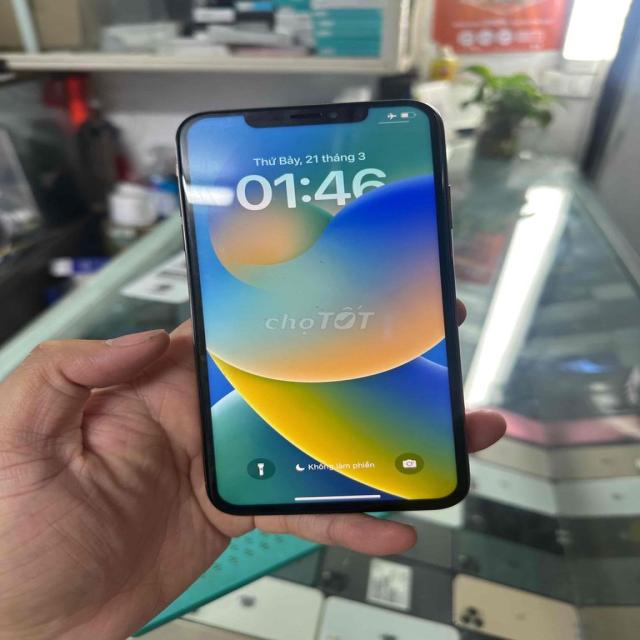gen_x_xs: (158, 98, 484, 525)
